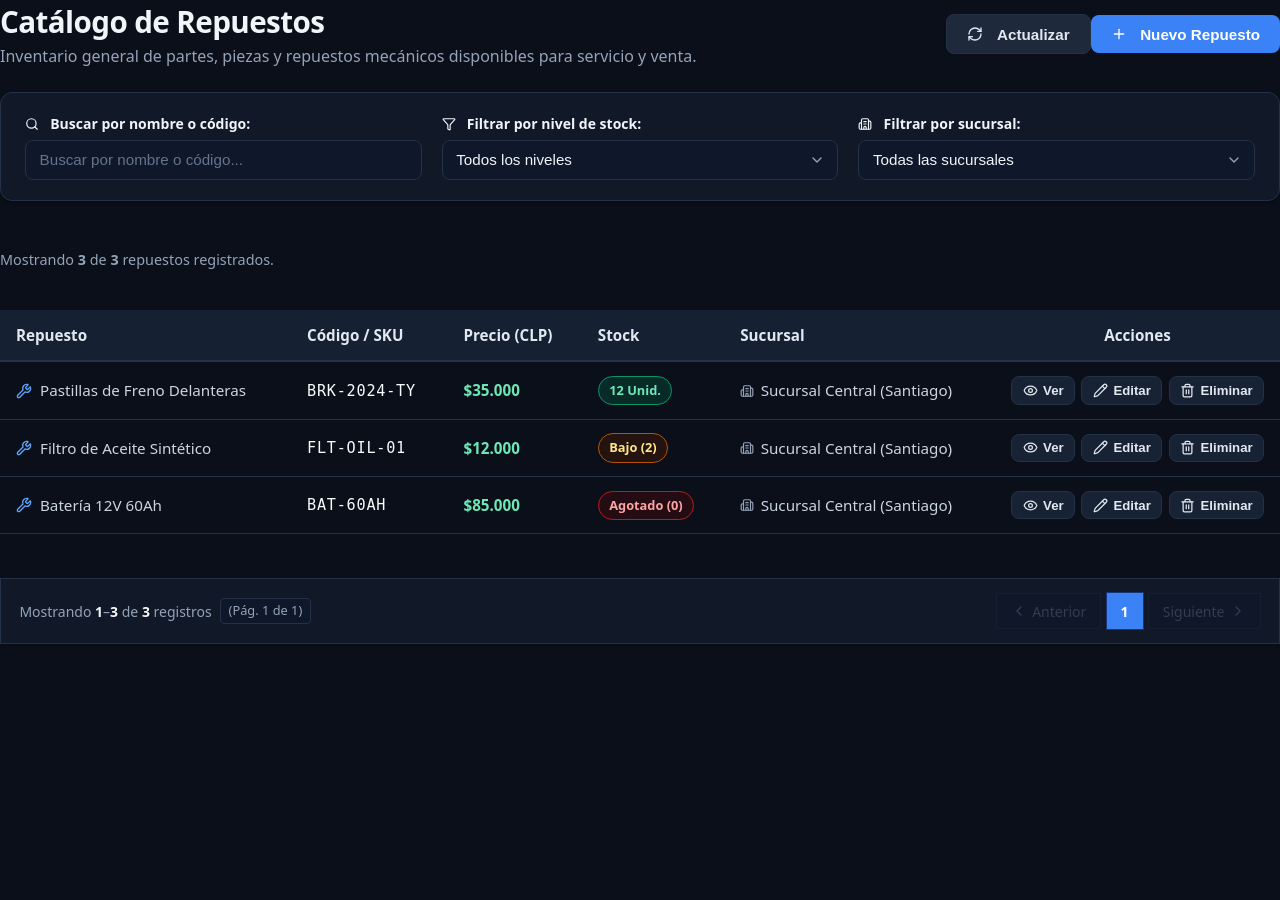
Test: Módulo CRUD de Repuestos (RepuestosPage.tsx) › permite a un usuario Admin abrir el modal de creación y registrar un repuesto con datos válidos
The image size is (1280, 900).
Expected: the text "Pastillas de Freno Delanteras" is shown, [40,379,246,402]
Click the button with aria-label "registrar nuevo repuesto" at (1185, 34), box [1091,15,1279,53]
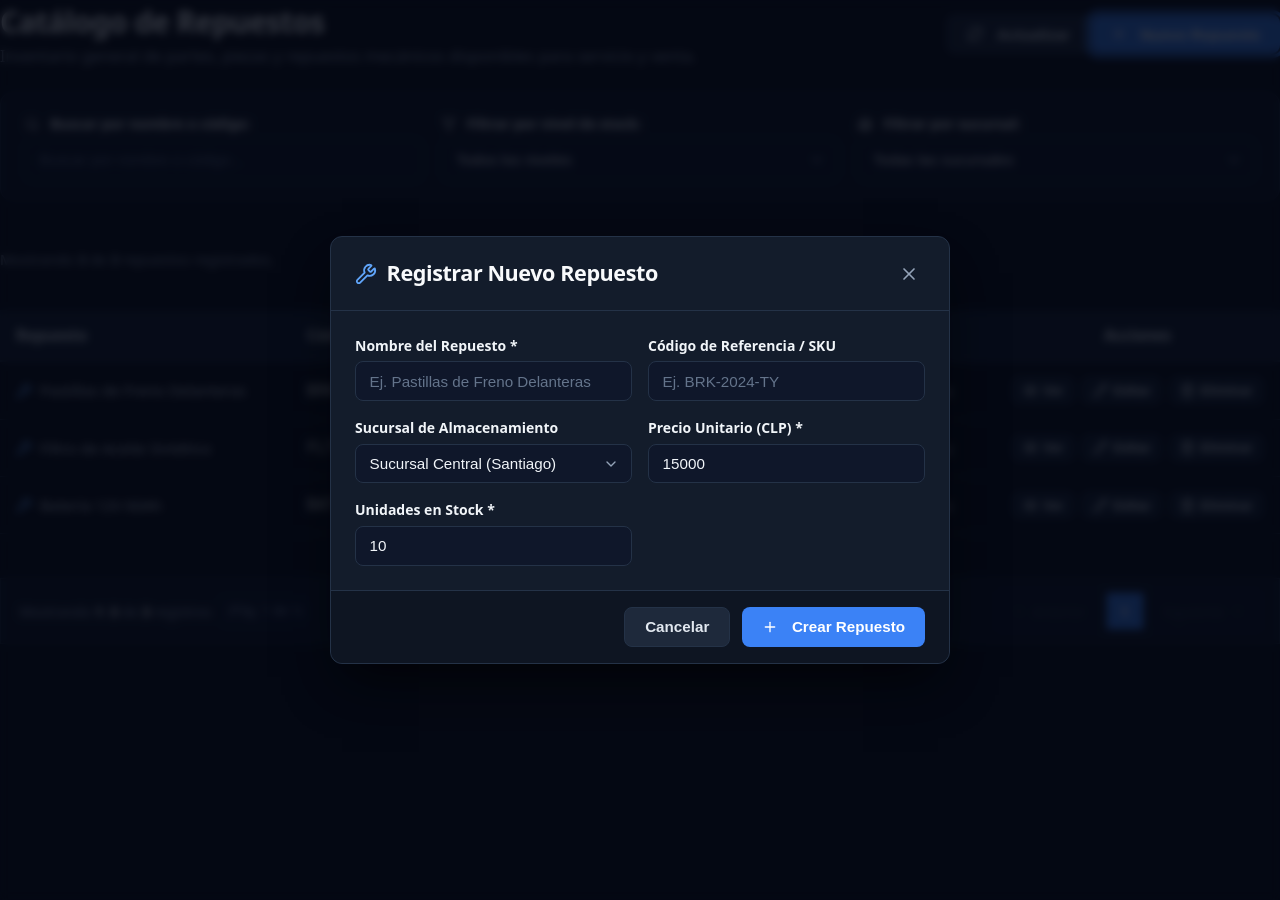
Now the heading "Registrar Nuevo Repuesto" is shown, box [387,257,658,290]
Type "Bujías de Iridio (Pack 4)" into the field labelled "Nombre del Repuesto *" at (494, 381), box [355,361,632,401]
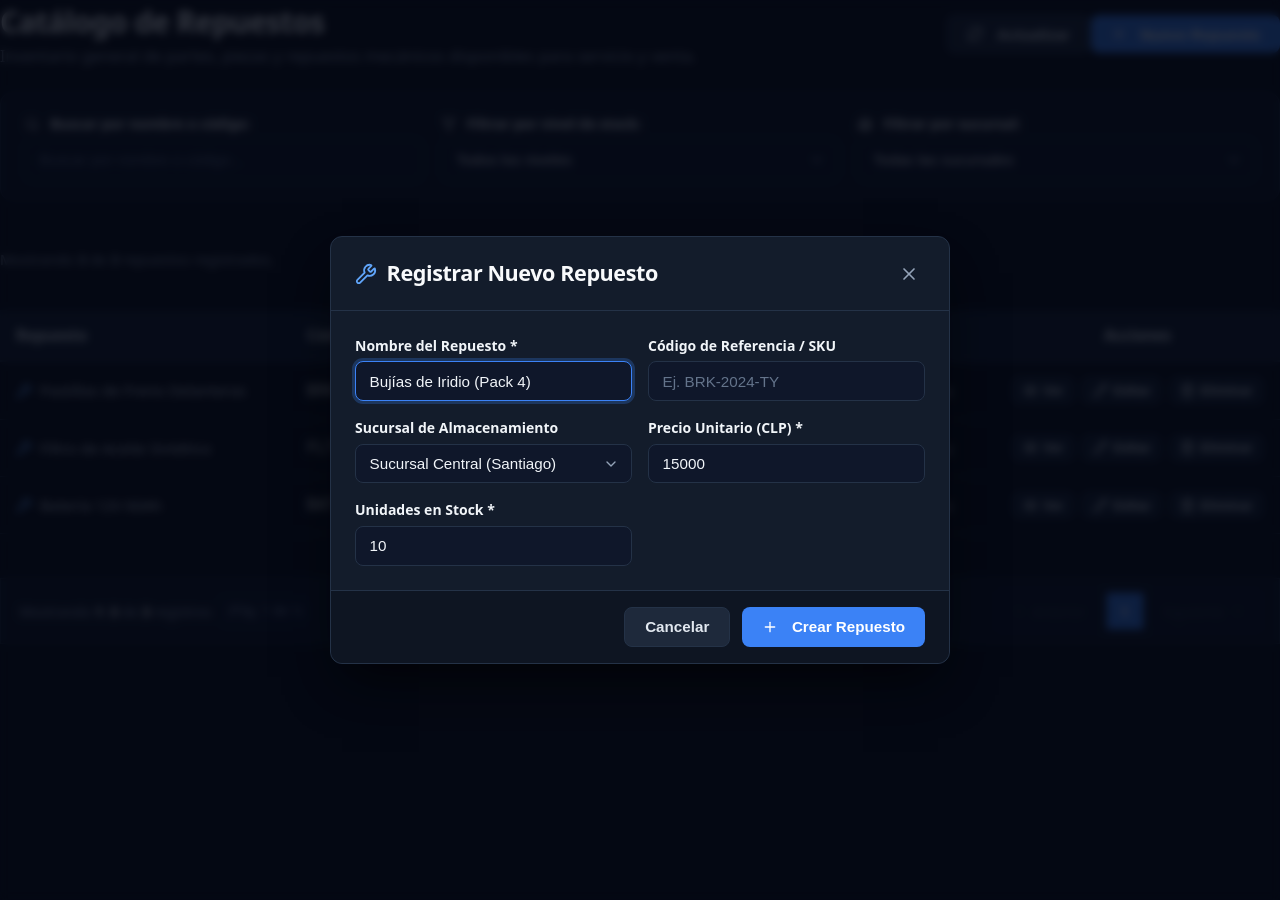
Type "SPK-IRI-04" into the field labelled "Código de Referencia / SKU" at (786, 381), box [648,361,925,401]
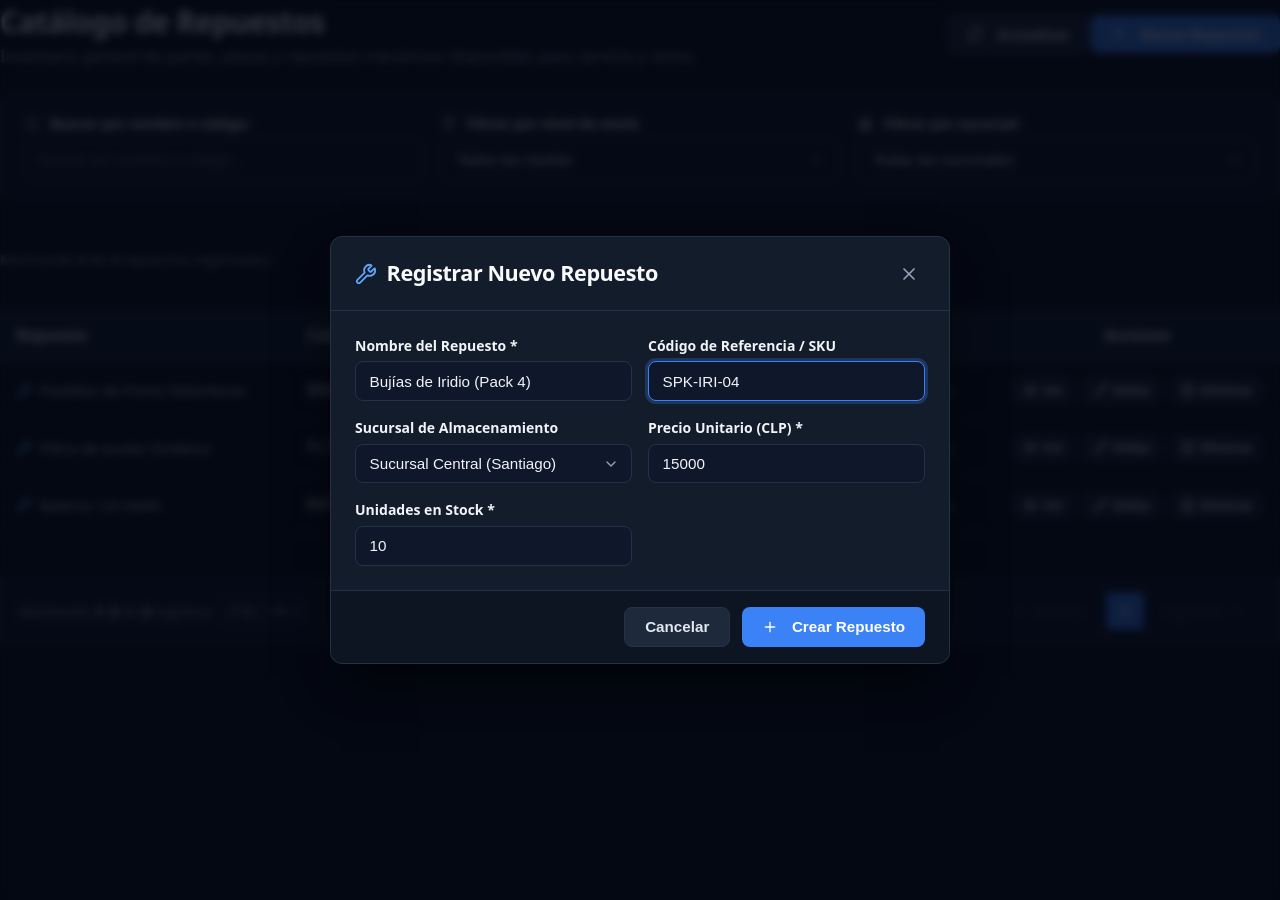
Replace the text in the number field labelled "Precio Unitario (CLP) *" with "28000" at (786, 464), box [648,444,925,484]
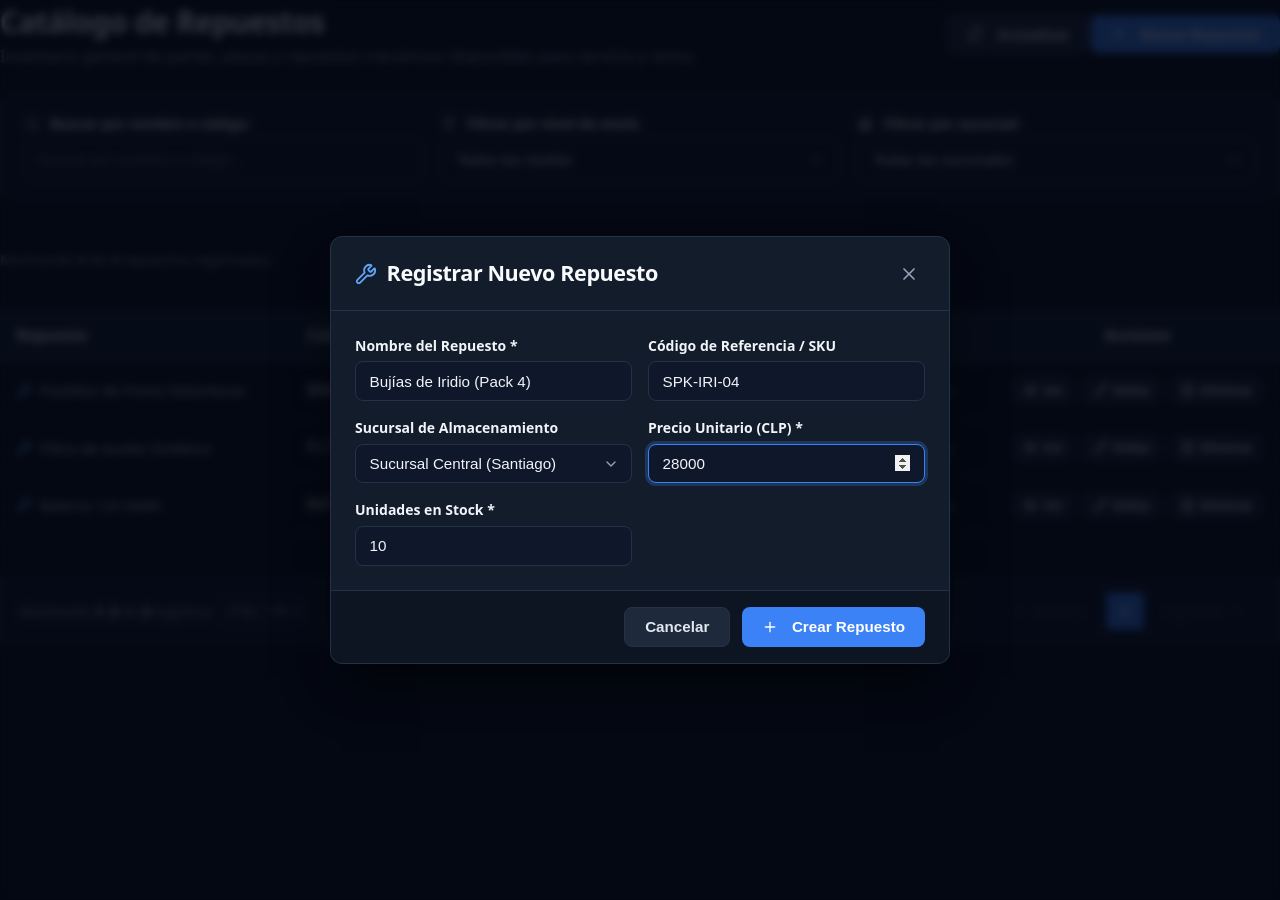
Replace the text in the number field labelled "Unidades en Stock *" with "20" at (494, 546), box [355,526,632,566]
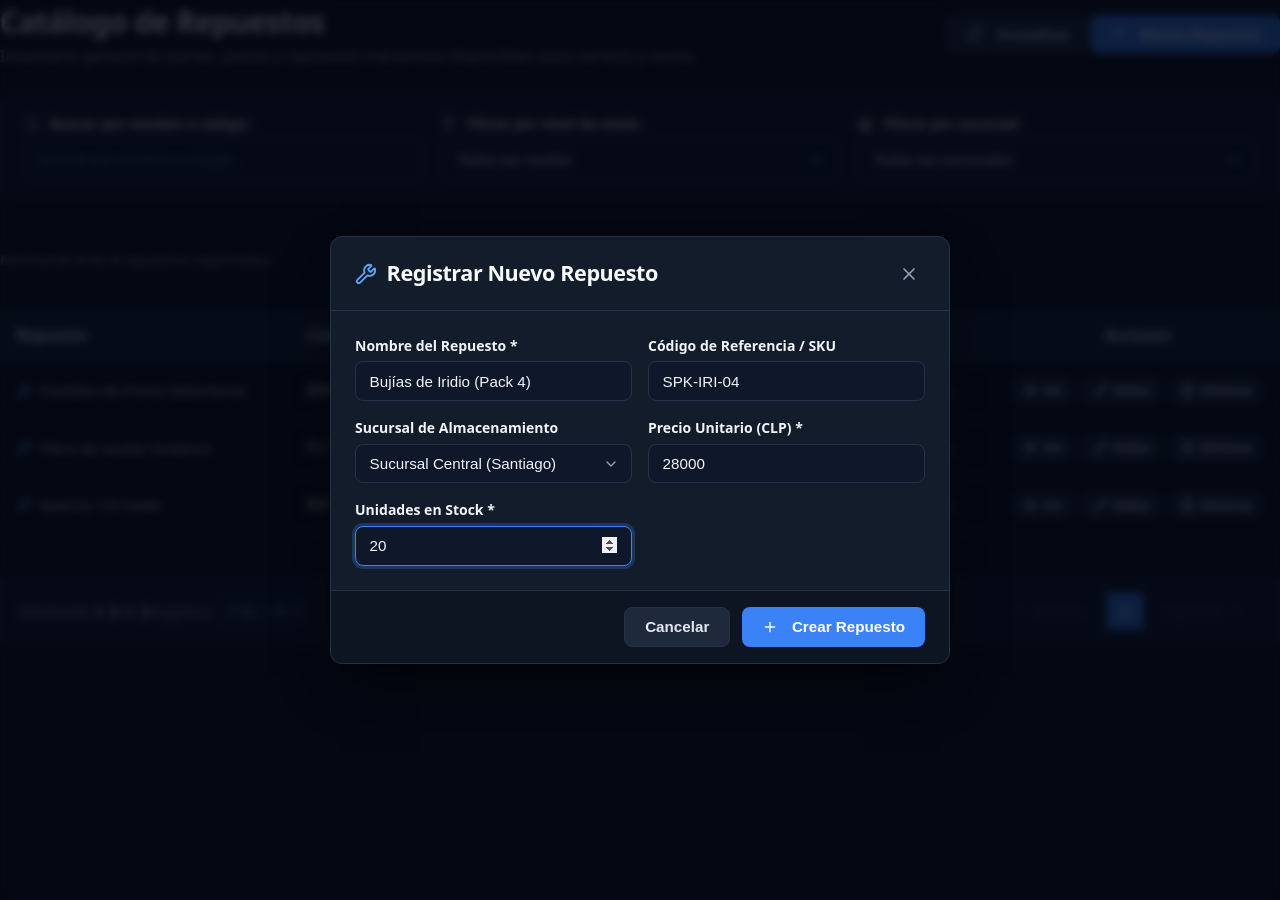
Click the button "Crear Repuesto" at (834, 627), box [742,607,925,647]
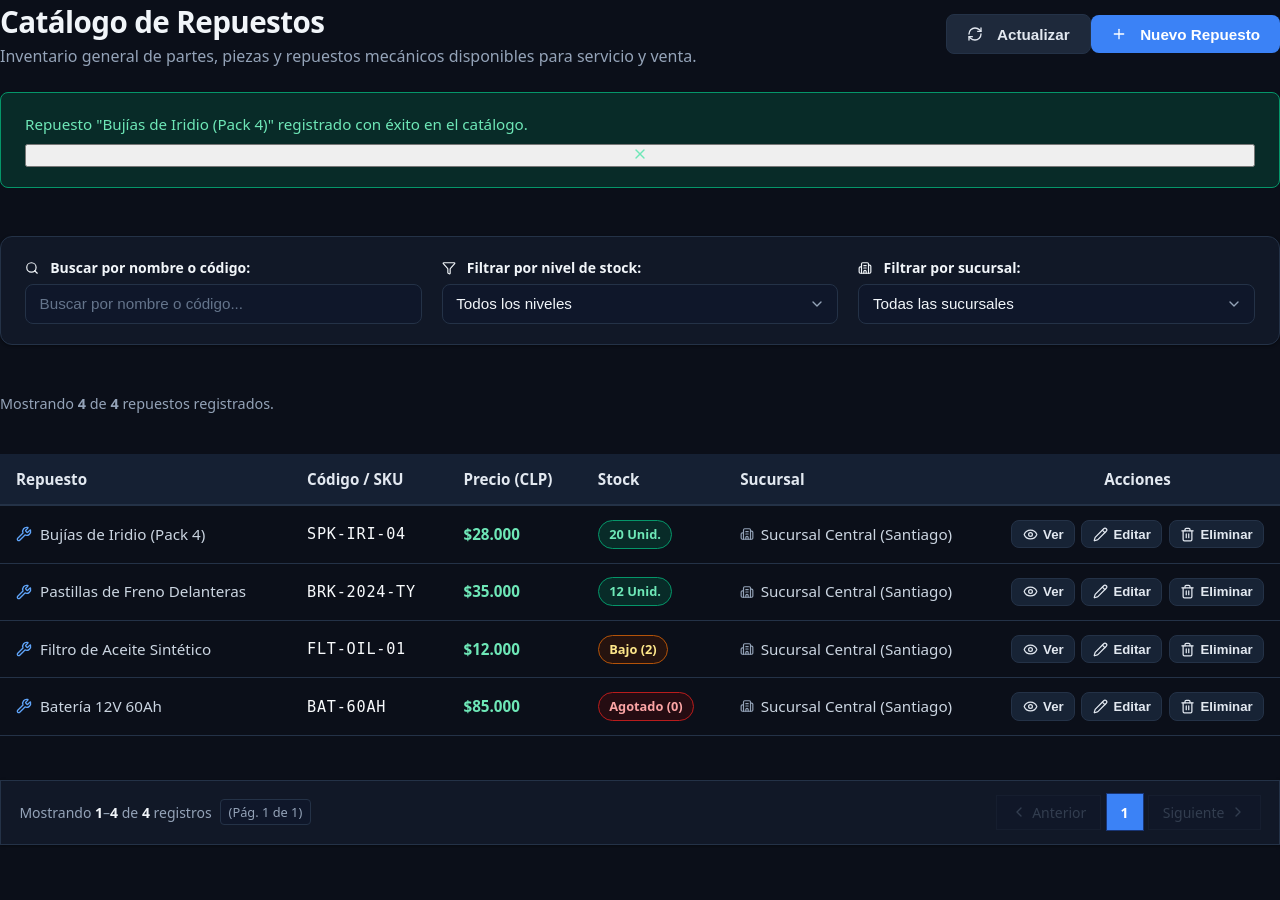
Now the text "registrado con éxito en el catálogo" is shown, box [25,114,528,134]
